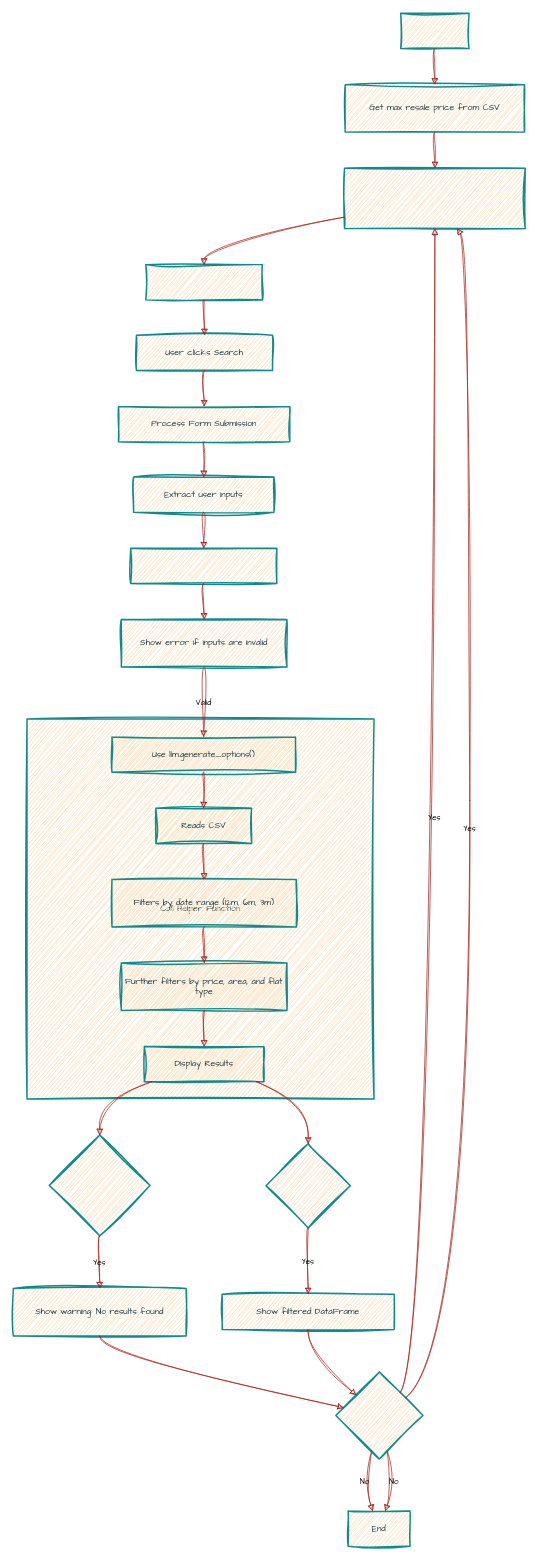
The diagram is 538 pixels wide and 1559 high, and some of its shapes have lost their labels. Here are the shapes that lost their labels. From the top down, the box of each, then its label:
(400, 12, 469, 49): Start
(343, 167, 526, 229): User selects date range, price range, flat type, and town
(145, 264, 263, 300): Submit Button
(130, 547, 277, 584): Validate user inputs
(48, 1134, 150, 1236): If no results?
(265, 1143, 351, 1228): If results?
(335, 1371, 423, 1459): Try again?
